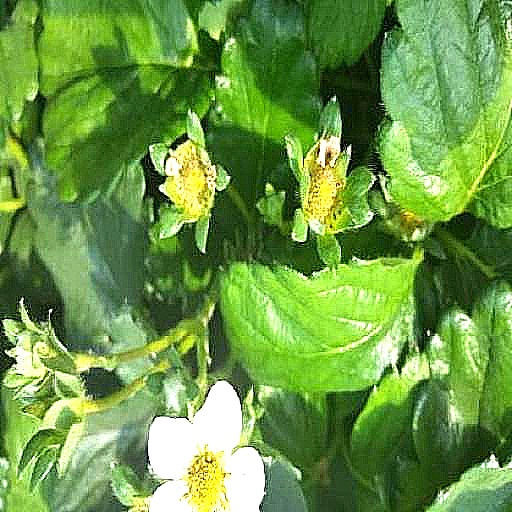Blossom Blight: (304, 286, 346, 359), (174, 300, 214, 365)
